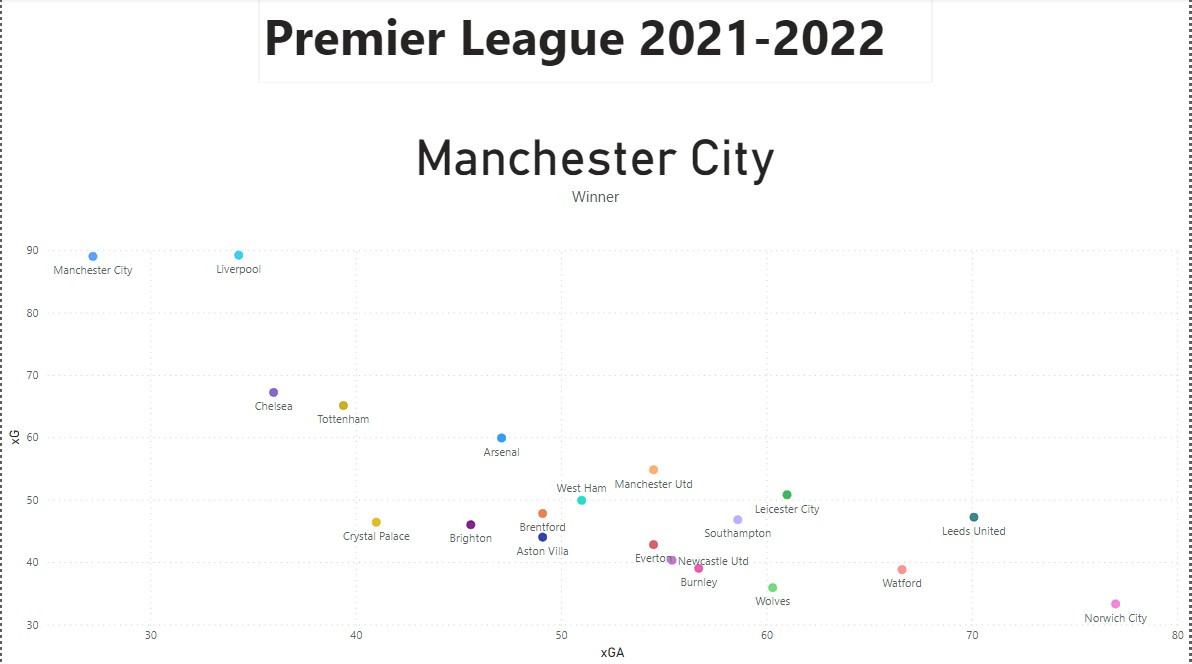

This screenshot's page, from the dashboard's own definition file:
{"tool":"powerbi","page":{"name":"Page 1","canvas":[1280,720],"ordinal":0},"visuals":[{"type":"scatterChart","fields":{"Category":["0.Squad"],"X":["Sum(0.xGA)"],"Y":["Sum(0.xG)"]},"box":[0,239.5,1279.8,480.5],"z":0},{"type":"textbox","box":[276.7,0,726.5,92.2],"z":1},{"type":"card","fields":{"Values":["0.Winner"]},"box":[0,92.2,1279.8,168.3],"z":2}]}

Visuals, with their boxes in screenshot pixels (x1, y1, x2, y2), scaled from the page's 1280x720 canvas onto the 1192x664 screenshot:
scatterChart - 0.Squad x Sum(0.xGA): bbox(0, 221, 1191, 663)
textbox: bbox(258, 0, 934, 85)
card - 0.Winner: bbox(0, 85, 1191, 240)
